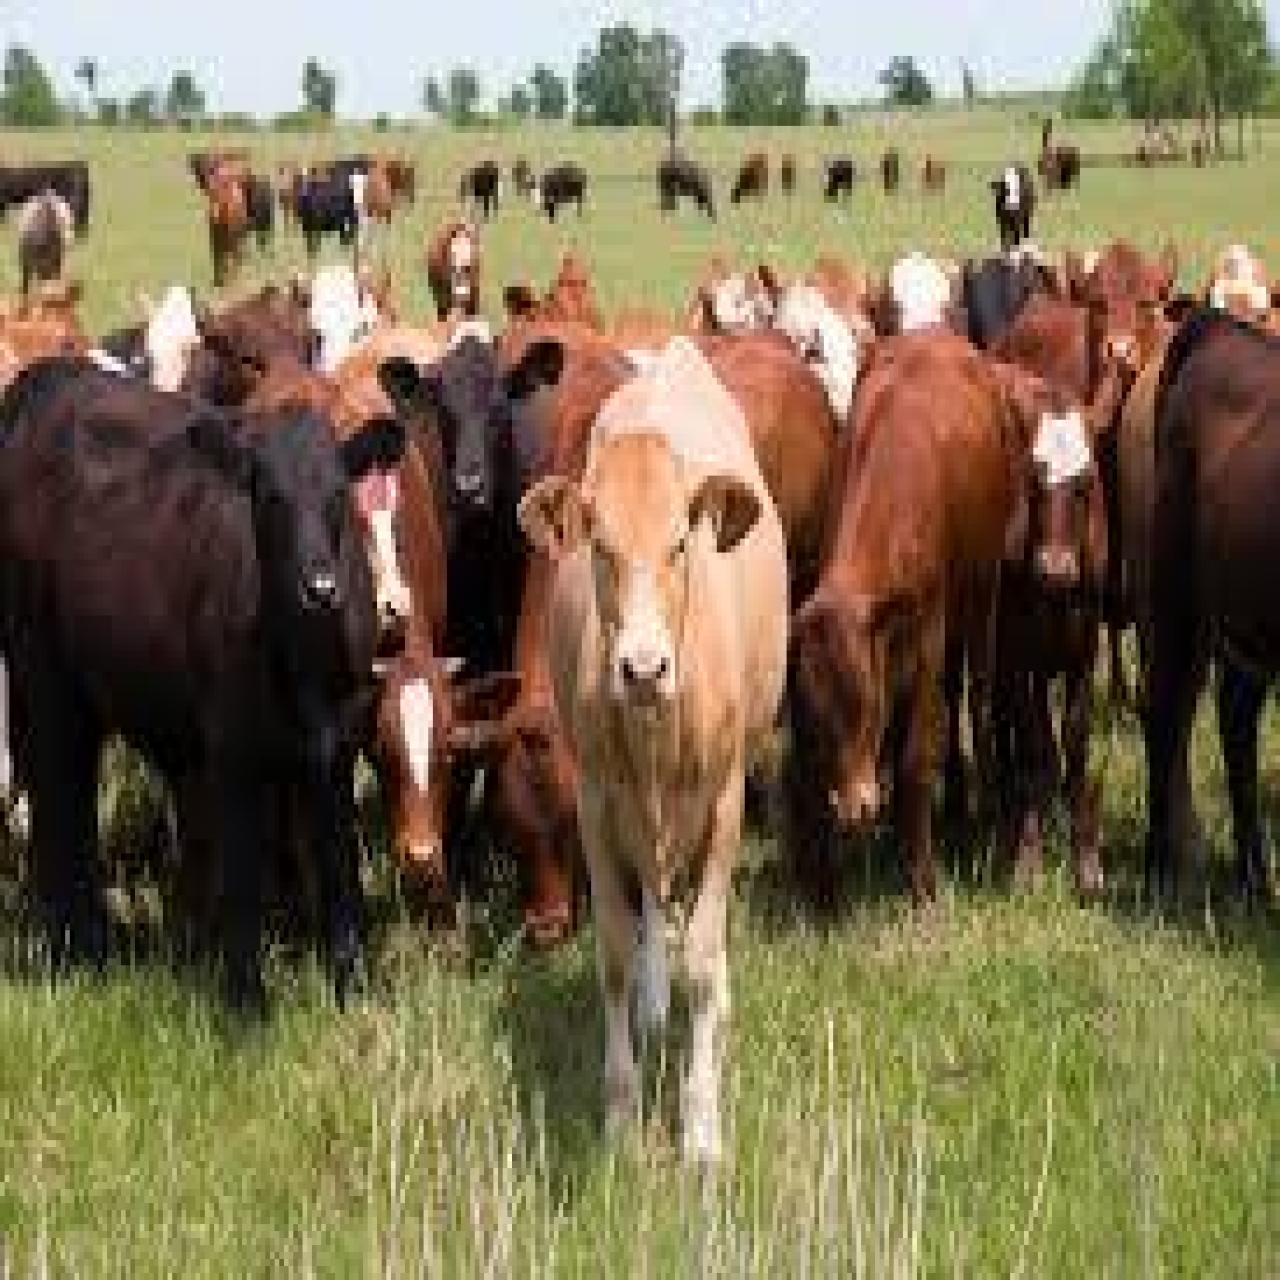cow: (2, 353, 408, 1010), (515, 332, 794, 1186), (779, 321, 1021, 917), (347, 332, 529, 948), (380, 328, 565, 910), (1149, 297, 1280, 926), (989, 346, 1115, 906), (319, 392, 416, 629), (756, 245, 873, 434), (1061, 238, 1182, 420), (182, 268, 326, 416), (277, 161, 361, 259), (873, 245, 961, 336), (1205, 238, 1280, 343), (961, 248, 1040, 347), (14, 185, 74, 312), (0, 154, 88, 238), (421, 210, 482, 322), (678, 256, 756, 340), (198, 164, 248, 291), (0, 307, 97, 370), (985, 154, 1035, 252), (654, 154, 719, 224), (531, 154, 586, 224), (238, 171, 279, 256), (454, 150, 505, 213), (727, 147, 772, 210), (819, 154, 857, 210)
